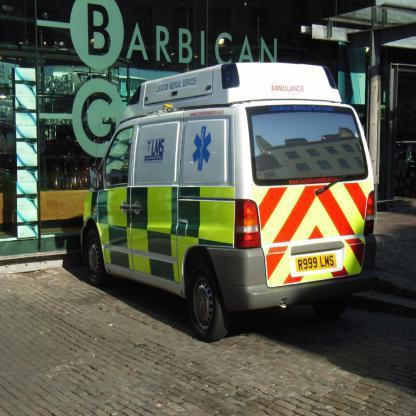ambulance_off: (80, 61, 377, 343)
